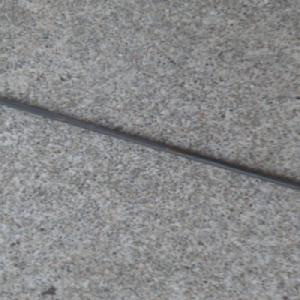LuggagePart: (0, 95, 300, 189)
